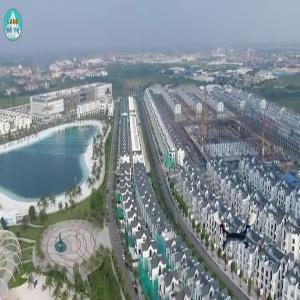drone: (212, 207, 259, 254)
